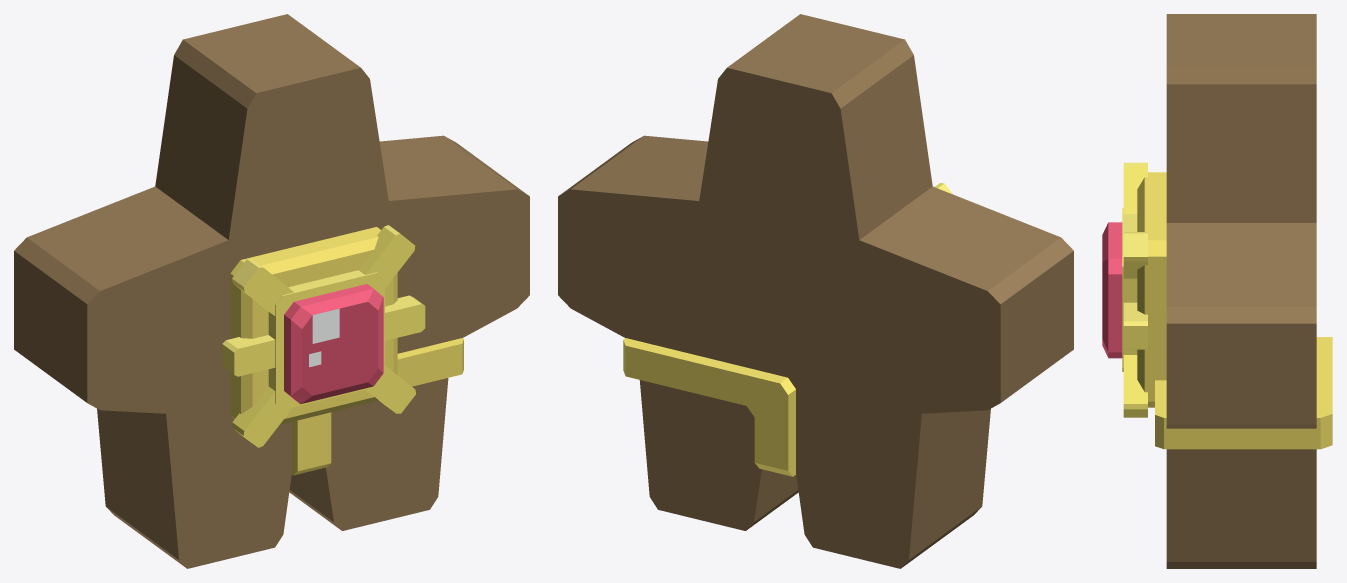
The picture shows the model from 3 angles, left to right: view 1: azimuth 30°, elevation 25°; view 2: azimuth 150°, elevation 25°; view 3: azimuth 270°, elevation 25°; orthographic projection. The views are drawn at different scales.
Visible parts, largest first — view 1: 0120_staryu; view 2: 0120_staryu; view 3: 0120_staryu.
Part boxes in pixels (x1=…): 0120_staryu: x1=14, y1=14, x2=529, y2=568; 0120_staryu: x1=558, y1=14, x2=1073, y2=568; 0120_staryu: x1=1102, y1=14, x2=1332, y2=568.
Bounding box in the file's own units: 1.93 × 1.91 × 0.8515.
1 material, 1 textured.
